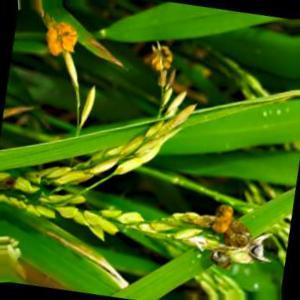Leaf_Scald: (209, 198, 241, 245), (52, 21, 82, 57)
